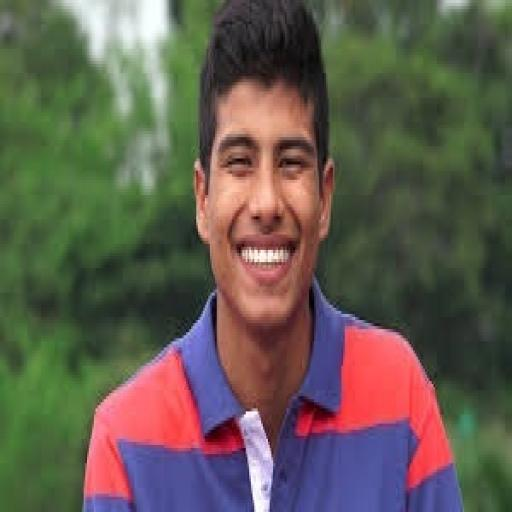laughing: (75, 0, 466, 506)
